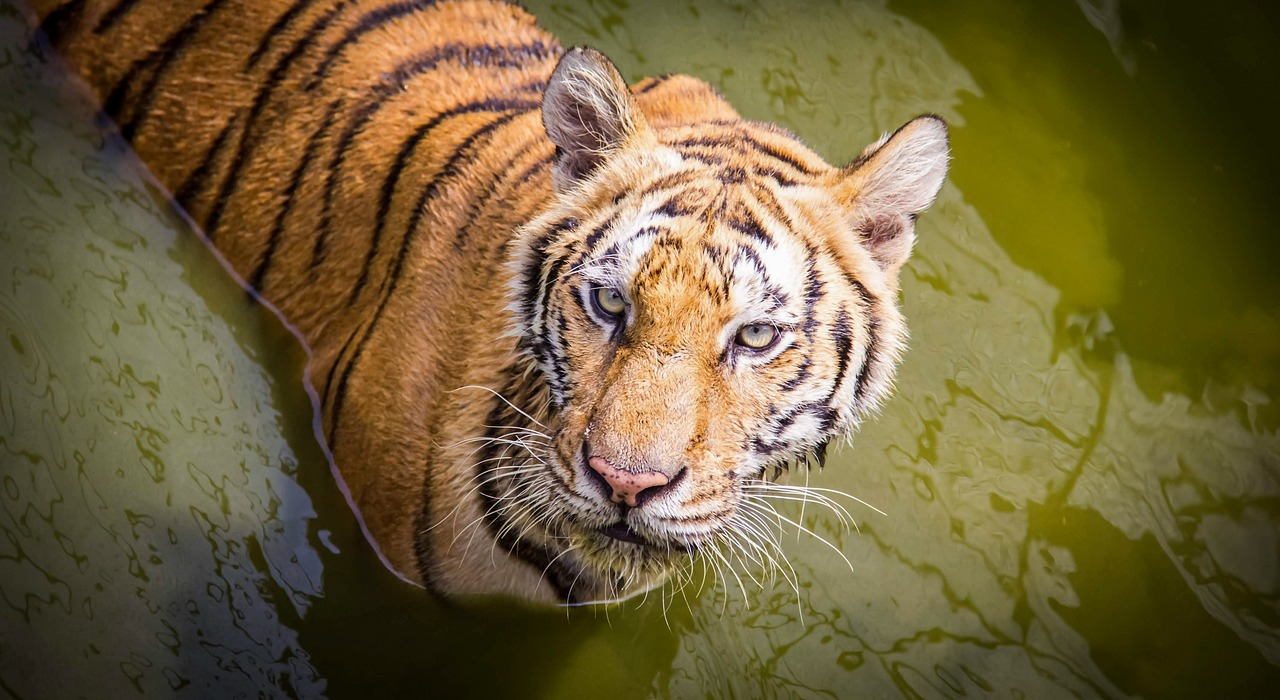tiger: (483, 26, 959, 590)
